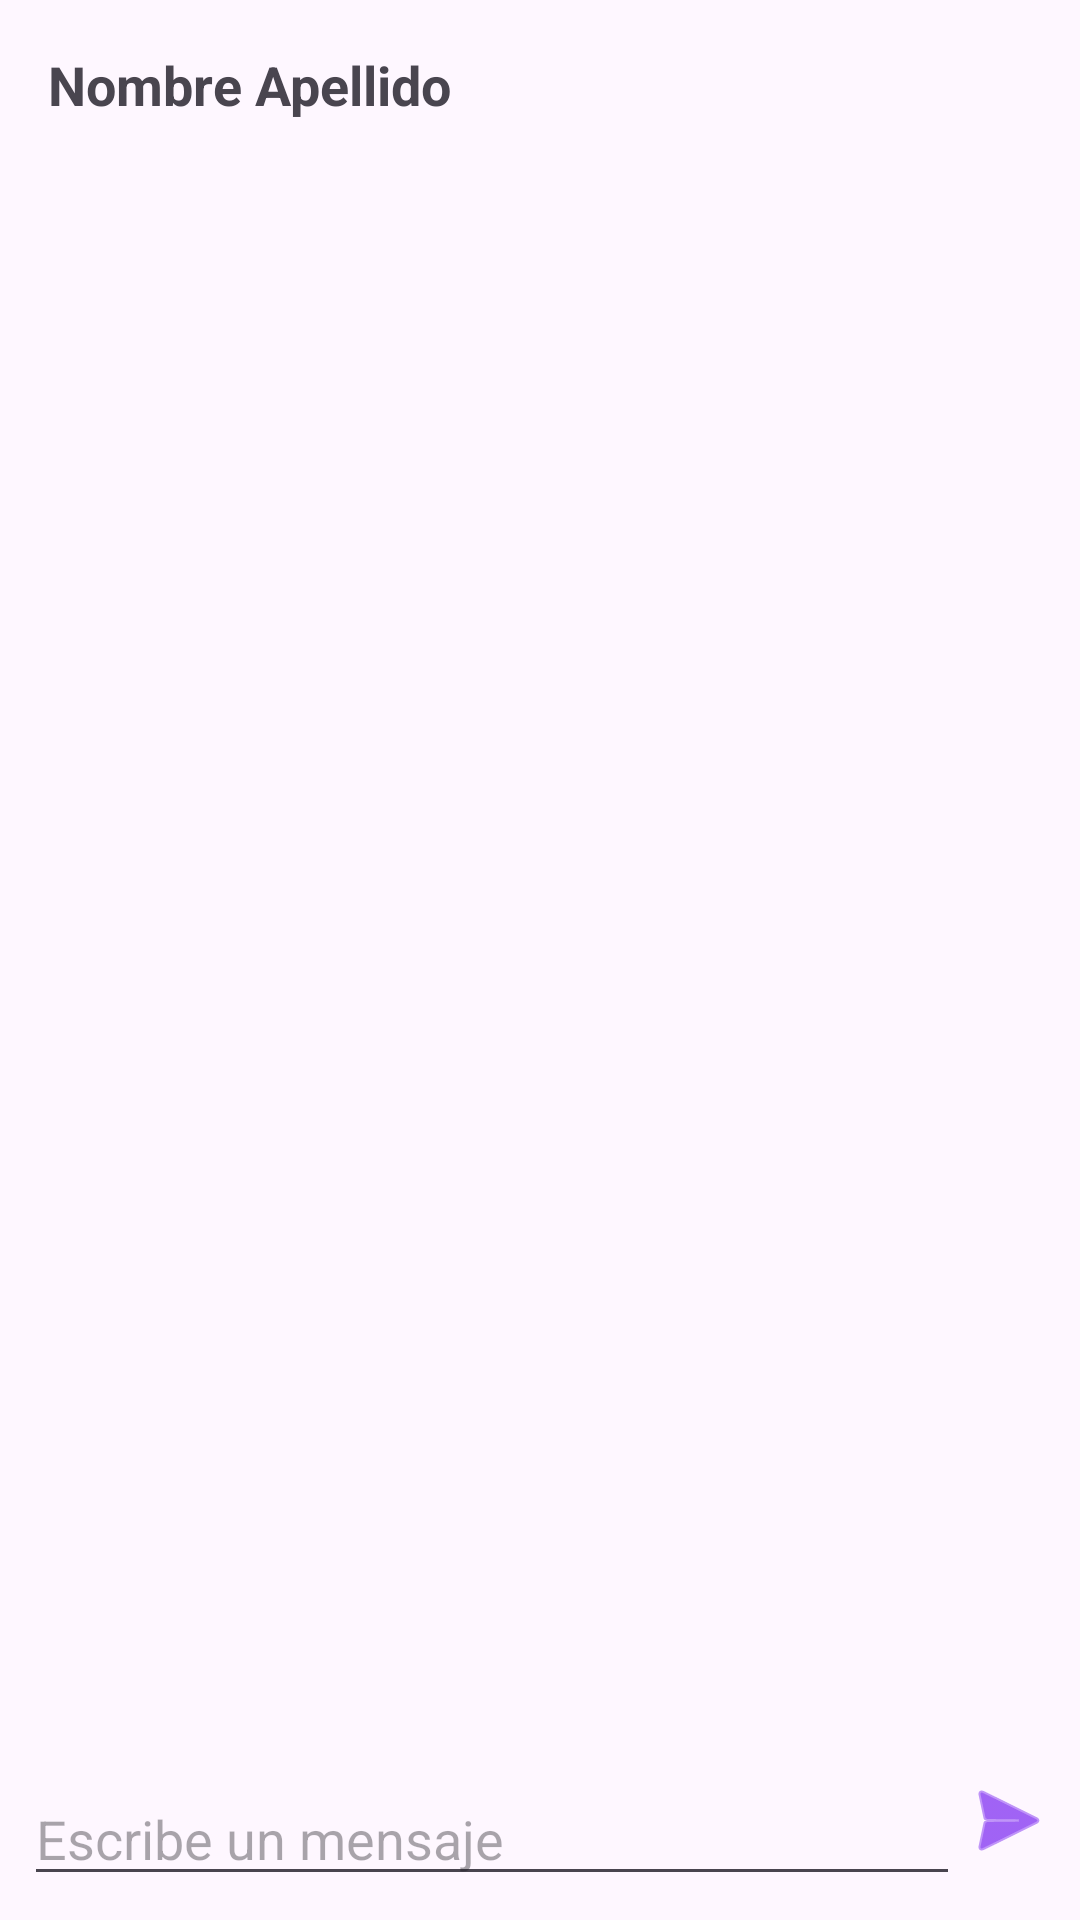

Icon bounding boxes for this 1080 x 1920 phone screenshot, format (x1, y1, x2, y2):
Enviar: (978, 1790, 1040, 1851)
